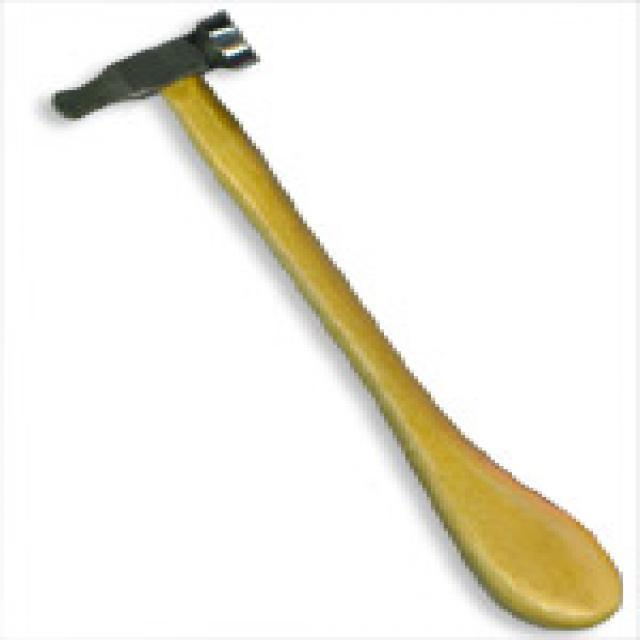hammer: (45, 4, 630, 639)
